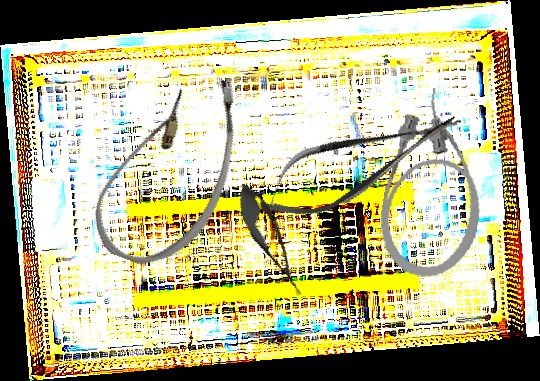Cannula: (81, 53, 260, 283), (372, 83, 498, 284)
Micro Scissor: (248, 91, 471, 236), (227, 177, 314, 303)
